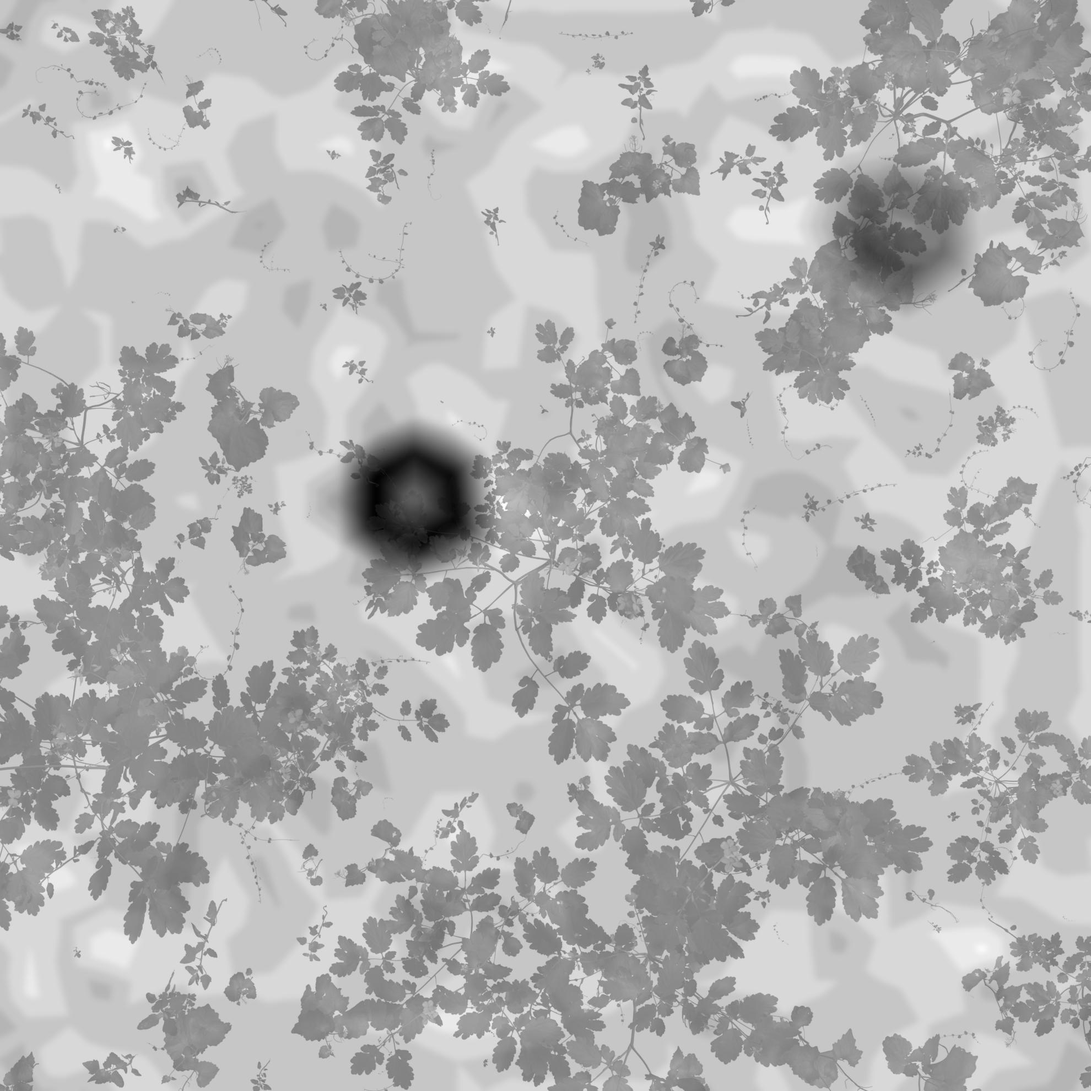landmine: (333, 433, 491, 580), (816, 166, 969, 291)
